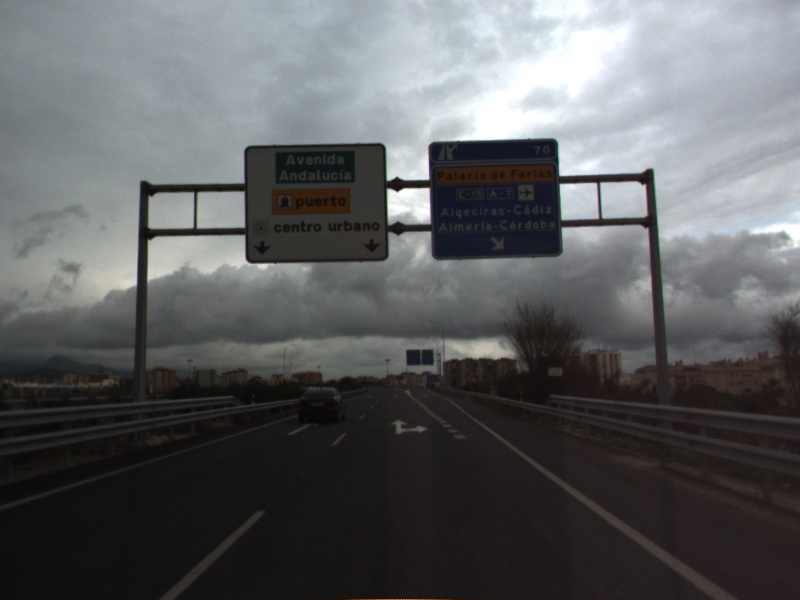STRAIGHT: (285, 420, 320, 437)
STRAIGHT_RIGHT: (388, 418, 431, 436)
